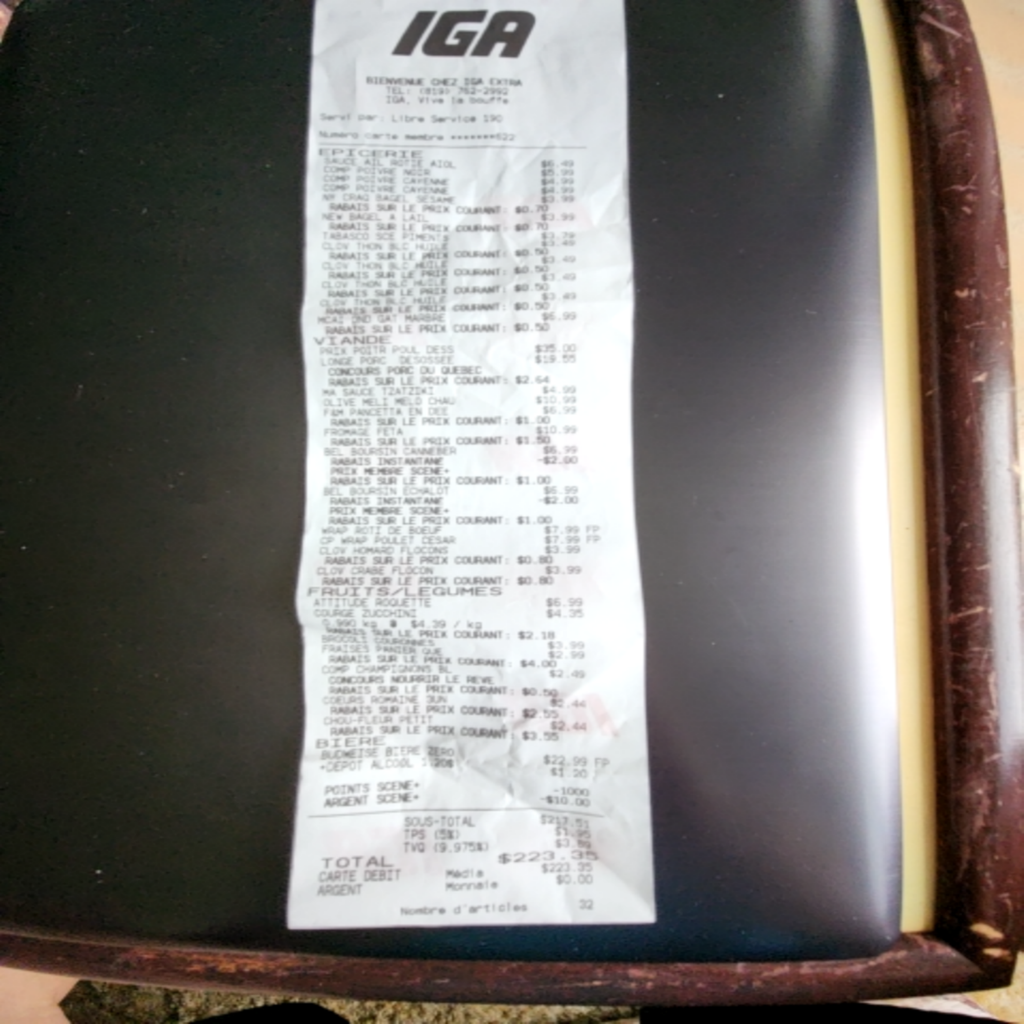recipt: (287, 0, 655, 930)
